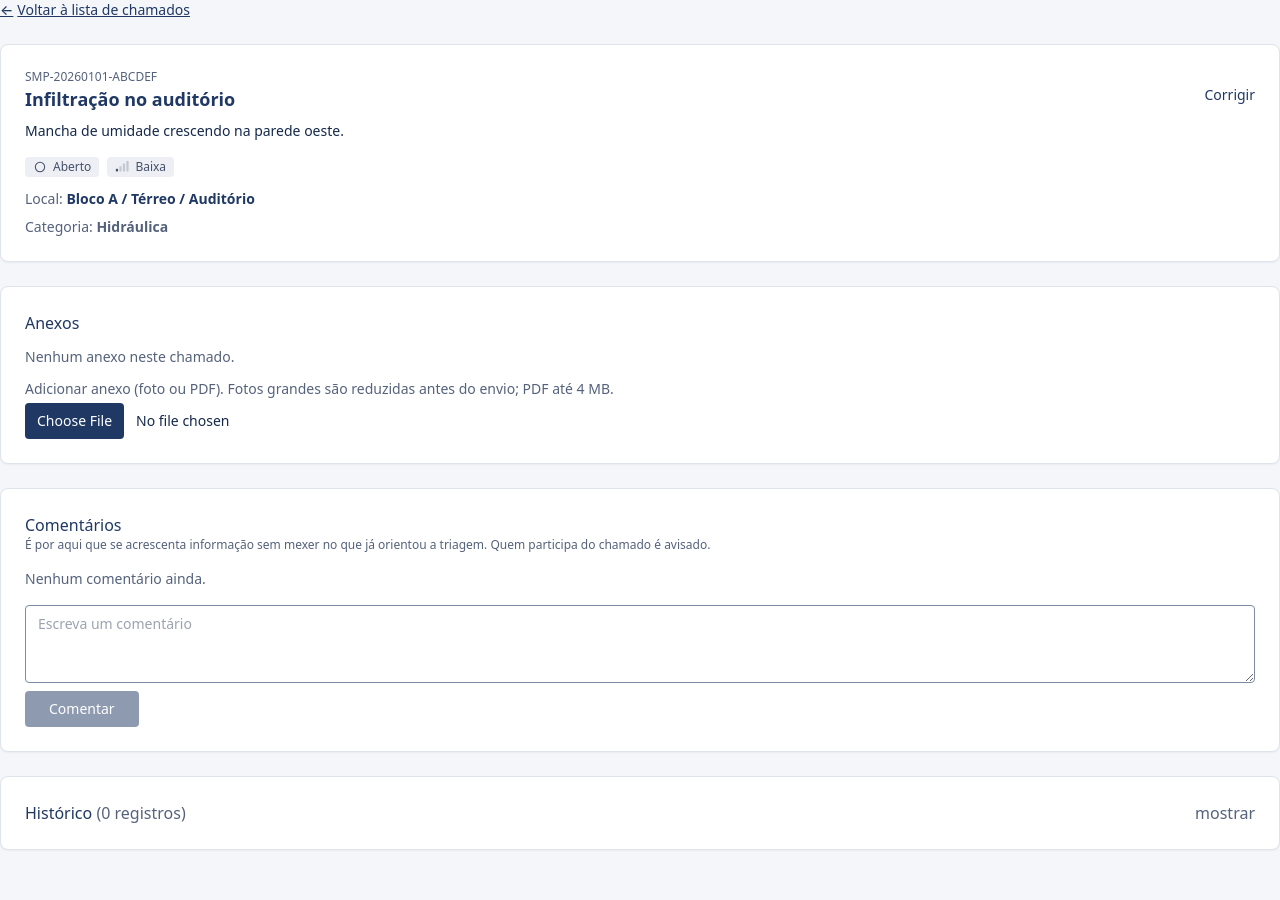
Comentários › recusa do servidor aparece na tela
Type "tentativa" into the text box with placeholder "Escreva um comentário" at (640, 644), box [25,605,1255,683]
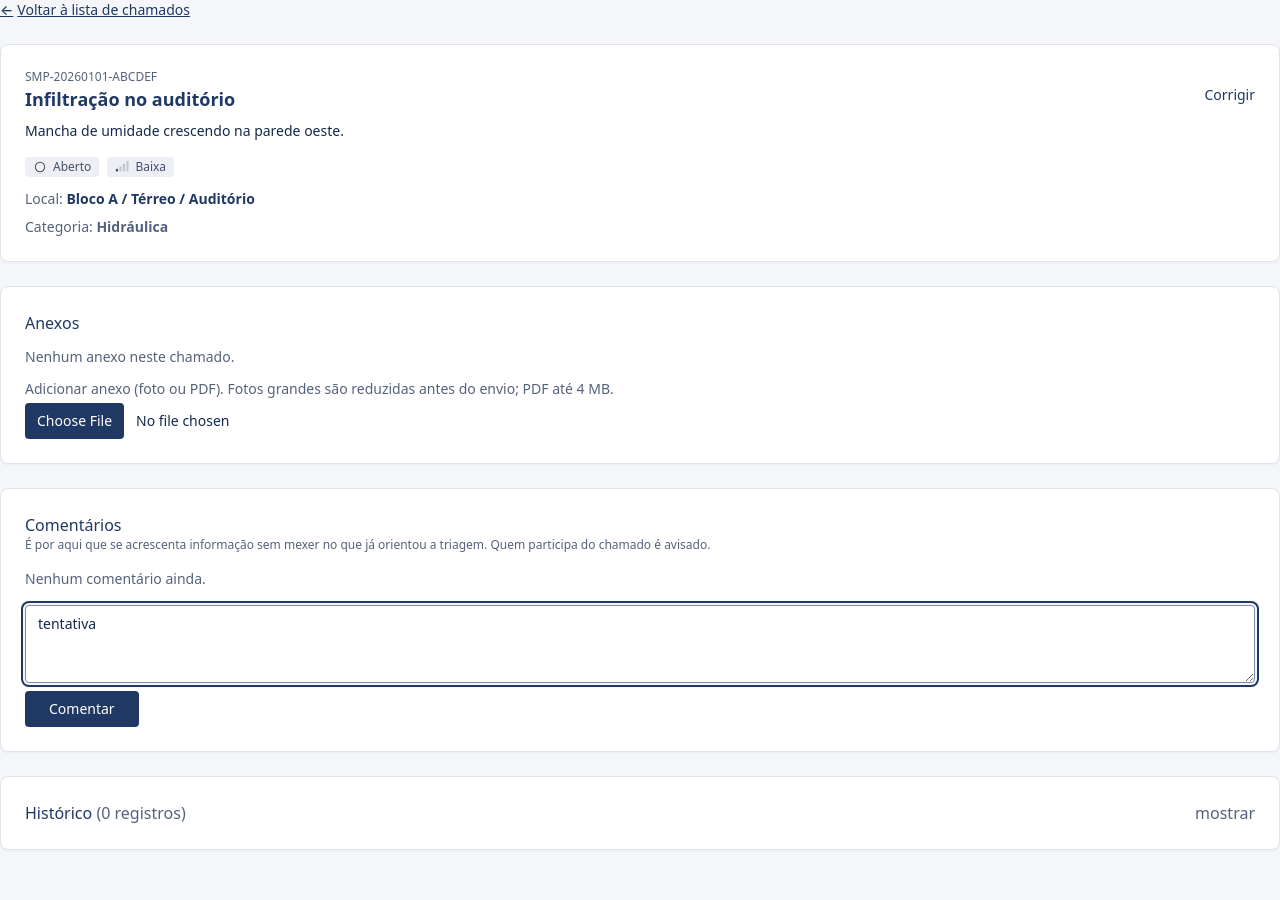
Click the button "Comentar" at (82, 709), box [25,691,139,727]
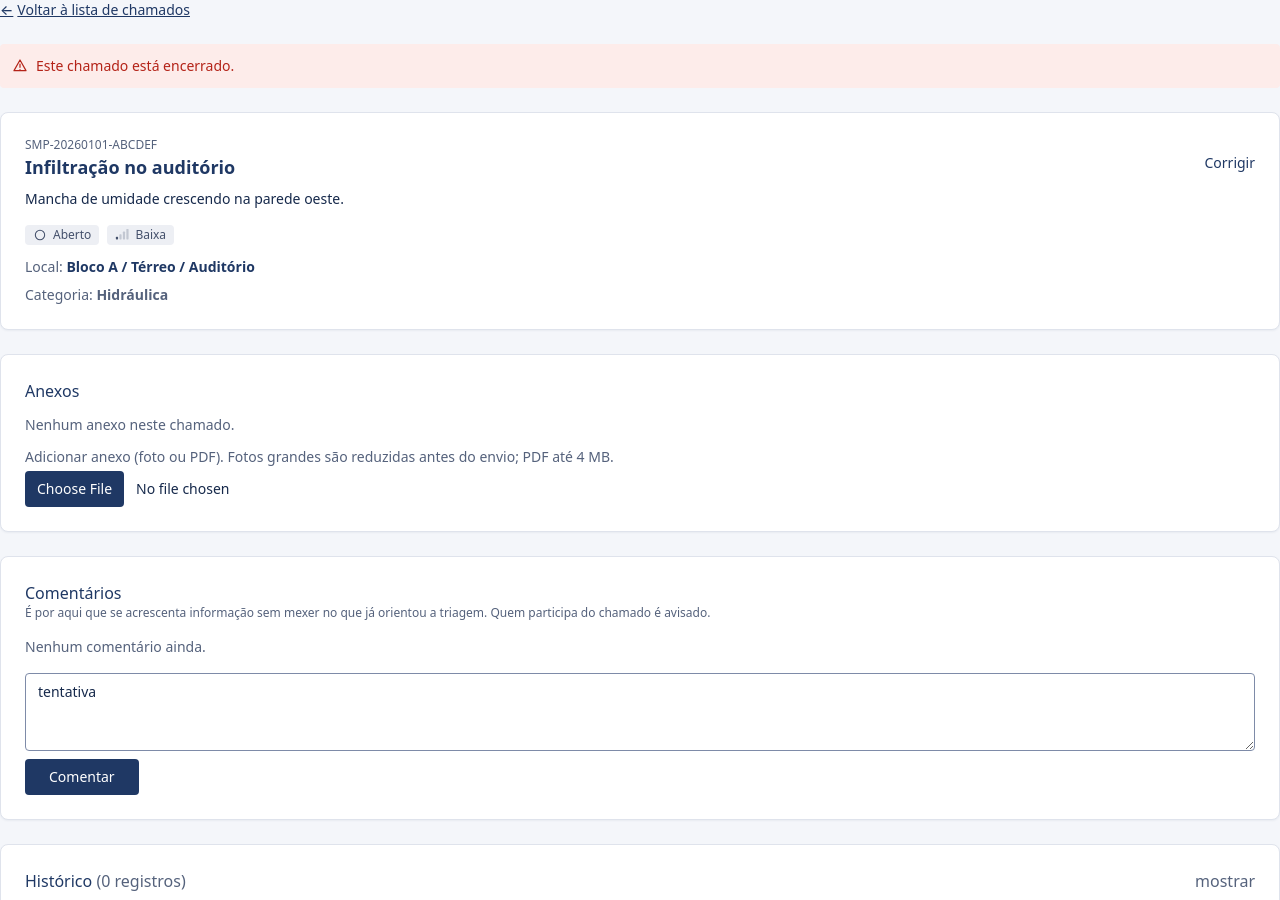
Check: the text "Este chamado está encerrado." is shown, box [36,56,234,75]
